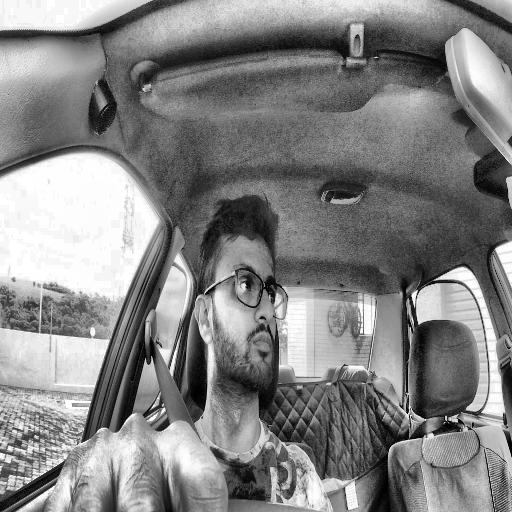awake: (195, 194, 288, 406)
